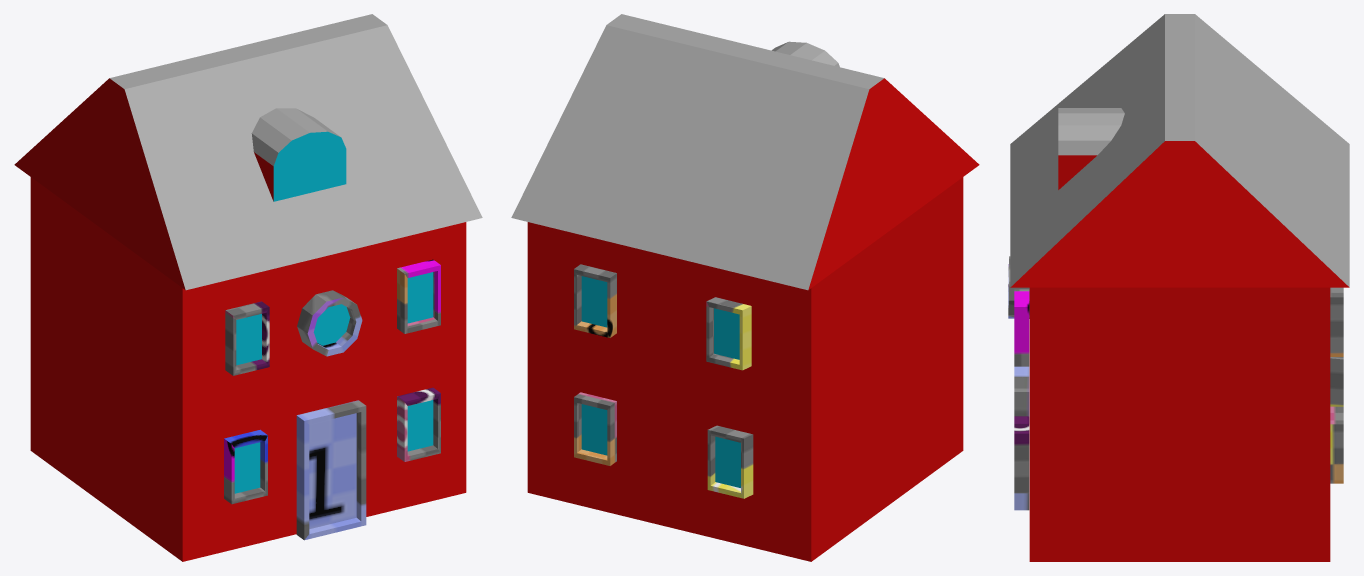
The model's file is House.fbx.
3 views of the same model, side by side, from view 1: azimuth 30°, elevation 25°; view 2: azimuth 150°, elevation 25°; view 3: azimuth 270°, elevation 25° (orthographic).
Parts seen in each view (by area): view 1: pCube14; view 2: pCube14; view 3: pCube14.
Boxes of the visible parts, bbox=[...] form: pCube14: bbox=[14, 14, 482, 561]; pCube14: bbox=[511, 14, 979, 561]; pCube14: bbox=[1008, 14, 1349, 561].
Bounding box in the file's own units: 6.44 × 8.72 × 6.48.
